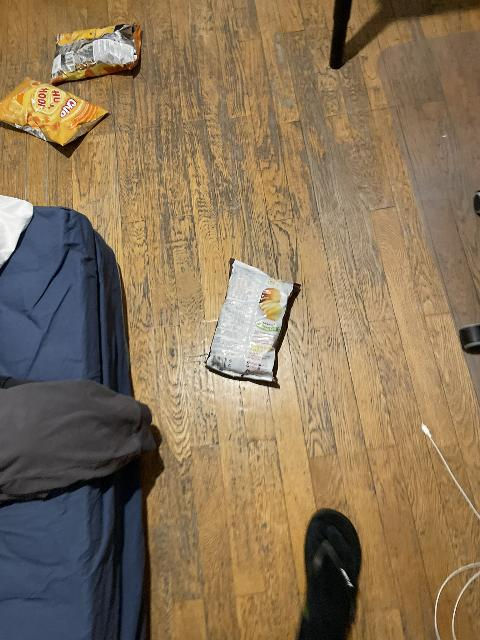Chio Cascaval 125g: (50, 22, 144, 84)
Chio Hula Hoops Cheese 70g: (0, 76, 111, 144)
Lays Beef Grilled Ribs 125g: (204, 258, 299, 386)
